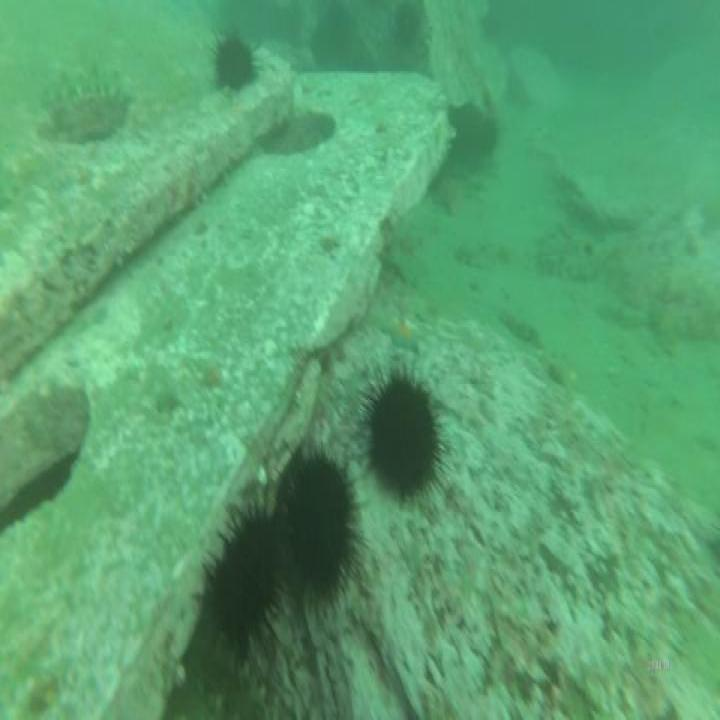echinus: (276, 430, 370, 622), (190, 492, 289, 672), (352, 352, 452, 512), (211, 21, 262, 98)
starfish: (376, 309, 428, 359)
